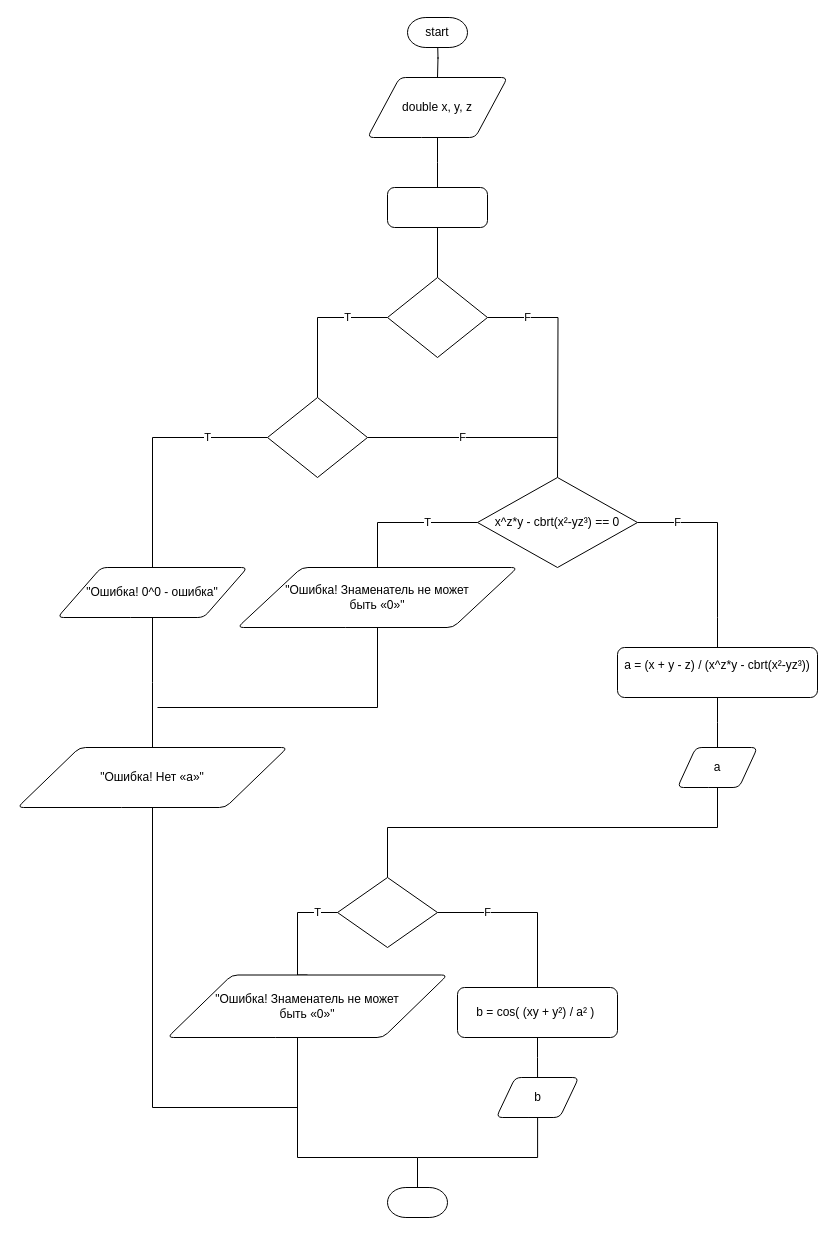
The diagram is 835 pixels wide and 1235 high, and some of its shapes have lost their labels. The shapes that lost their labels are listed below. From the top down, each one's box as (x1, y1, x2, y2) in pixels, then its label:
(386, 186, 488, 228): double a, b
(386, 276, 488, 358): x == 0
(266, 396, 368, 478): z == 0
(336, 876, 438, 948): a == 0
(386, 1186, 448, 1218): end
